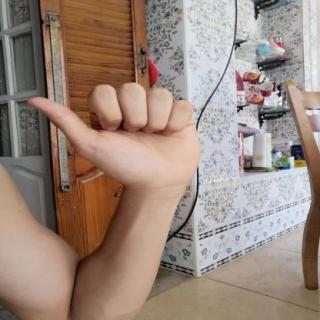DAD: (17, 77, 211, 198)
